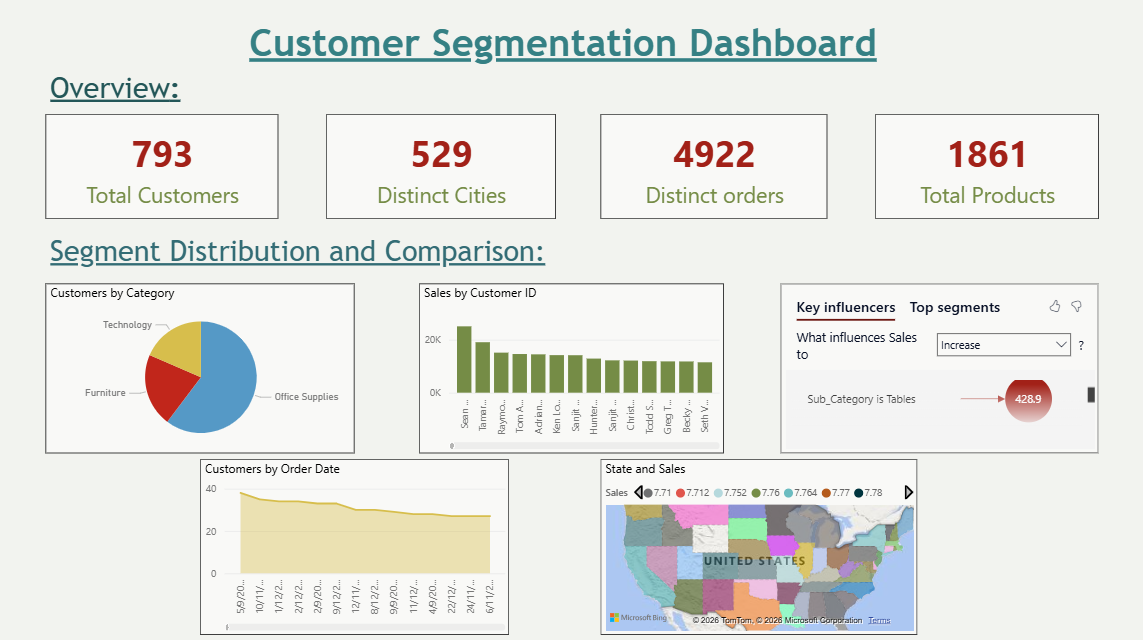

What the dashboard file says about the page in this screenshot:
{"tool":"powerbi","page":{"name":"Page 1","canvas":[1280,720],"ordinal":0},"visuals":[{"type":"textbox","box":[258.3,20,743.3,68.3],"z":0},{"type":"card","fields":{"Values":["Count(superstore_final_dataset (1).Customer_ID)"]},"box":[55,130,258.3,116.7],"z":1000},{"type":"card","fields":{"Values":["Count(superstore_final_dataset (1).City)"]},"box":[366.7,130,255,116.7],"z":2000},{"type":"card","fields":{"Values":["Count(superstore_final_dataset (1).Order_ID)"]},"box":[671.7,130,251.7,116.7],"z":3000},{"type":"card","fields":{"Values":["Count(superstore_final_dataset (1).Product_ID)"]},"box":[976.7,130,248.3,116.7],"z":4000},{"type":"pieChart","fields":{"Y":["CountNonNull(superstore_final_dataset (1).Customer_ID)"],"Category":["superstore_final_dataset (1).Category"]},"box":[55,318.3,343.3,188.3],"z":5000},{"type":"clusteredColumnChart","fields":{"Category":["superstore_final_dataset (1).Customer_Name"],"Y":["Sum(superstore_final_dataset (1).Sales)"]},"box":[470,318.3,338.3,188.3],"z":6000},{"type":"keyDriversVisual","fields":{"Target":["superstore_final_dataset (1).Sales"],"ExplainBy":["superstore_final_dataset (1).Category","superstore_final_dataset (1).Sub_Category"]},"box":[871.7,318.3,353.3,188.3],"z":7000},{"type":"areaChart","fields":{"Category":["superstore_final_dataset (1).Order_Date"],"Y":["CountNonNull(superstore_final_dataset (1).Customer_ID)"]},"box":[226.7,513.3,343.3,195],"z":8000},{"type":"filledMap","fields":{"Category":["superstore_final_dataset (1).State"],"Series":["superstore_final_dataset (1).Sales"]},"box":[671.7,513.3,351.7,195],"z":8001},{"type":"textbox","box":[55,76.7,208.3,53.3],"z":8002},{"type":"textbox","box":[55,258.3,616.7,60],"z":8003}]}

Visuals, with their boxes in screenshot pixels (x1, y1, x2, y2), scaled from the page's 1280x720 canvas onto the 1143x640 screenshot:
textbox: (231,18,894,78)
card - Count(superstore_final_dataset (1).Customer_ID): (49,116,280,219)
card - Count(superstore_final_dataset (1).City): (327,116,555,219)
card - Count(superstore_final_dataset (1).Order_ID): (600,116,825,219)
card - Count(superstore_final_dataset (1).Product_ID): (872,116,1094,219)
pieChart - CountNonNull(superstore_final_dataset (1).Customer_ID) x superstore_final_dataset (1).Category: (49,283,356,450)
clusteredColumnChart - superstore_final_dataset (1).Customer_Name x Sum(superstore_final_dataset (1).Sales): (420,283,722,450)
keyDriversVisual - superstore_final_dataset (1).Sales x superstore_final_dataset (1).Category: (778,283,1094,450)
areaChart - superstore_final_dataset (1).Order_Date x CountNonNull(superstore_final_dataset (1).Customer_ID): (202,456,509,630)
filledMap - superstore_final_dataset (1).State x superstore_final_dataset (1).Sales: (600,456,914,630)
textbox: (49,68,235,116)
textbox: (49,230,600,283)
